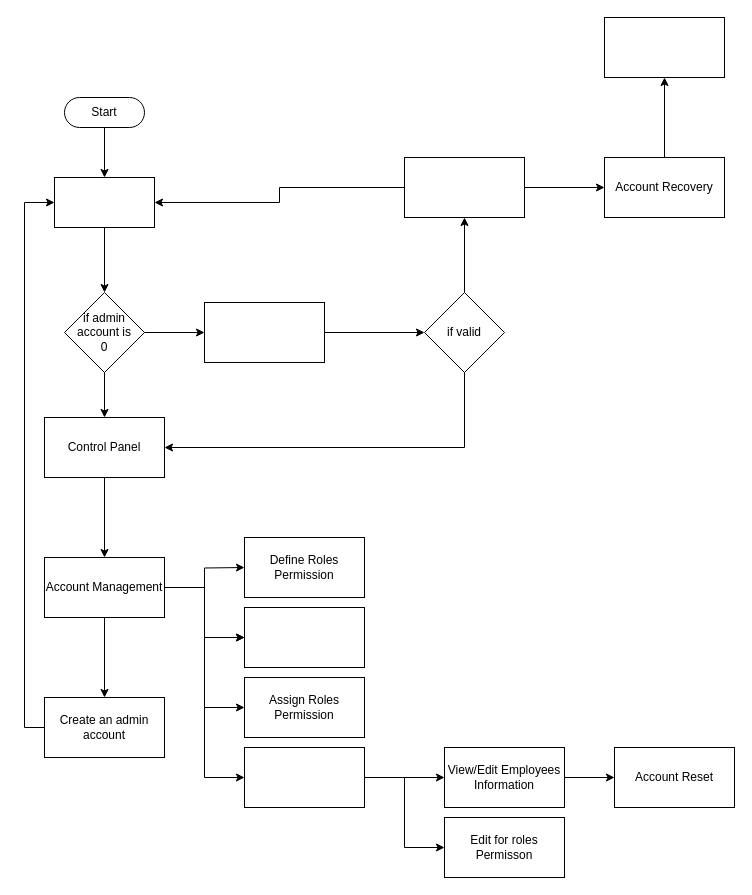
Some shapes in this 752 by 895 pixel diagram are drawn without their labels. The box of each missing label's shape, as (x1, y1, x2, y2) in pixels:
Account Validation: (204, 302, 324, 362)
Add employees: (244, 606, 364, 668)
Invalid Access: (404, 156, 524, 218)
Login (admin, password): (54, 176, 154, 228)
Send Recovery Email: (604, 16, 724, 78)
View Employees List: (244, 746, 364, 808)
